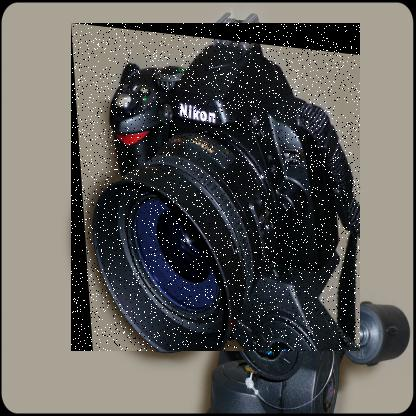Camera: (72, 24, 362, 353)
